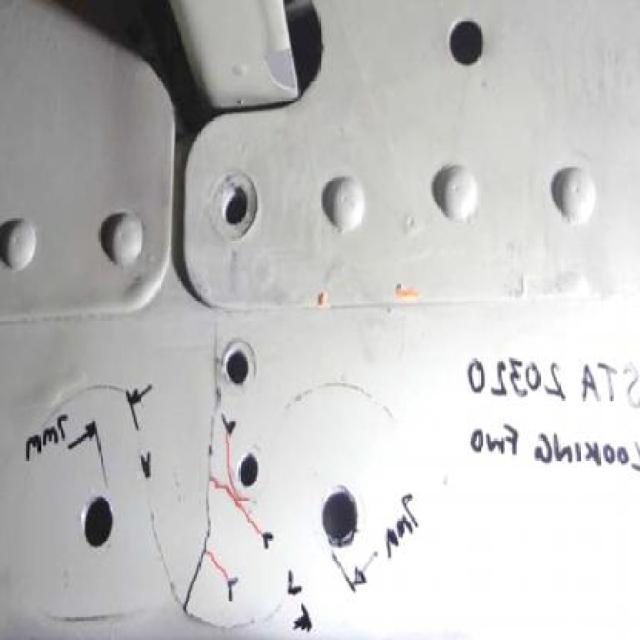crack: (179, 302, 268, 624), (144, 493, 291, 640)
